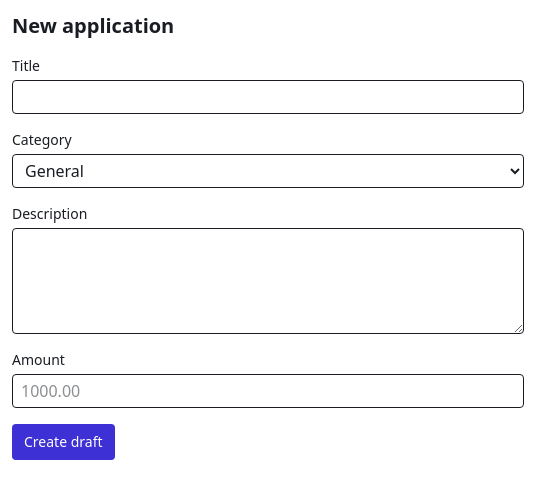
Test: ApplicationForm (new) › shows a validation error when the title is empty
This screenshot has width=541, height=501.
Click the button "Create draft" at (63, 442), box [12, 424, 114, 460]
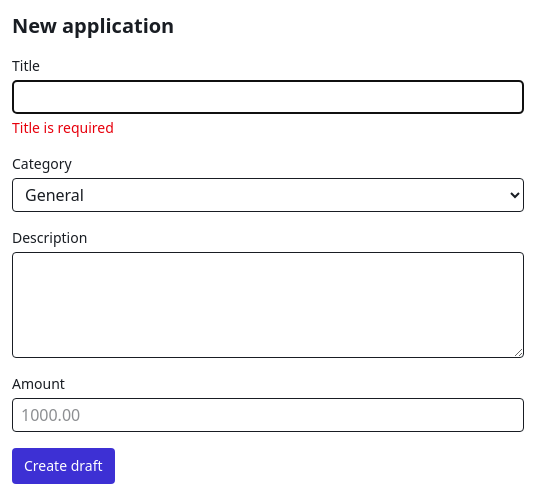
Expected: the text "Title is required" is shown, [12, 118, 114, 137]
